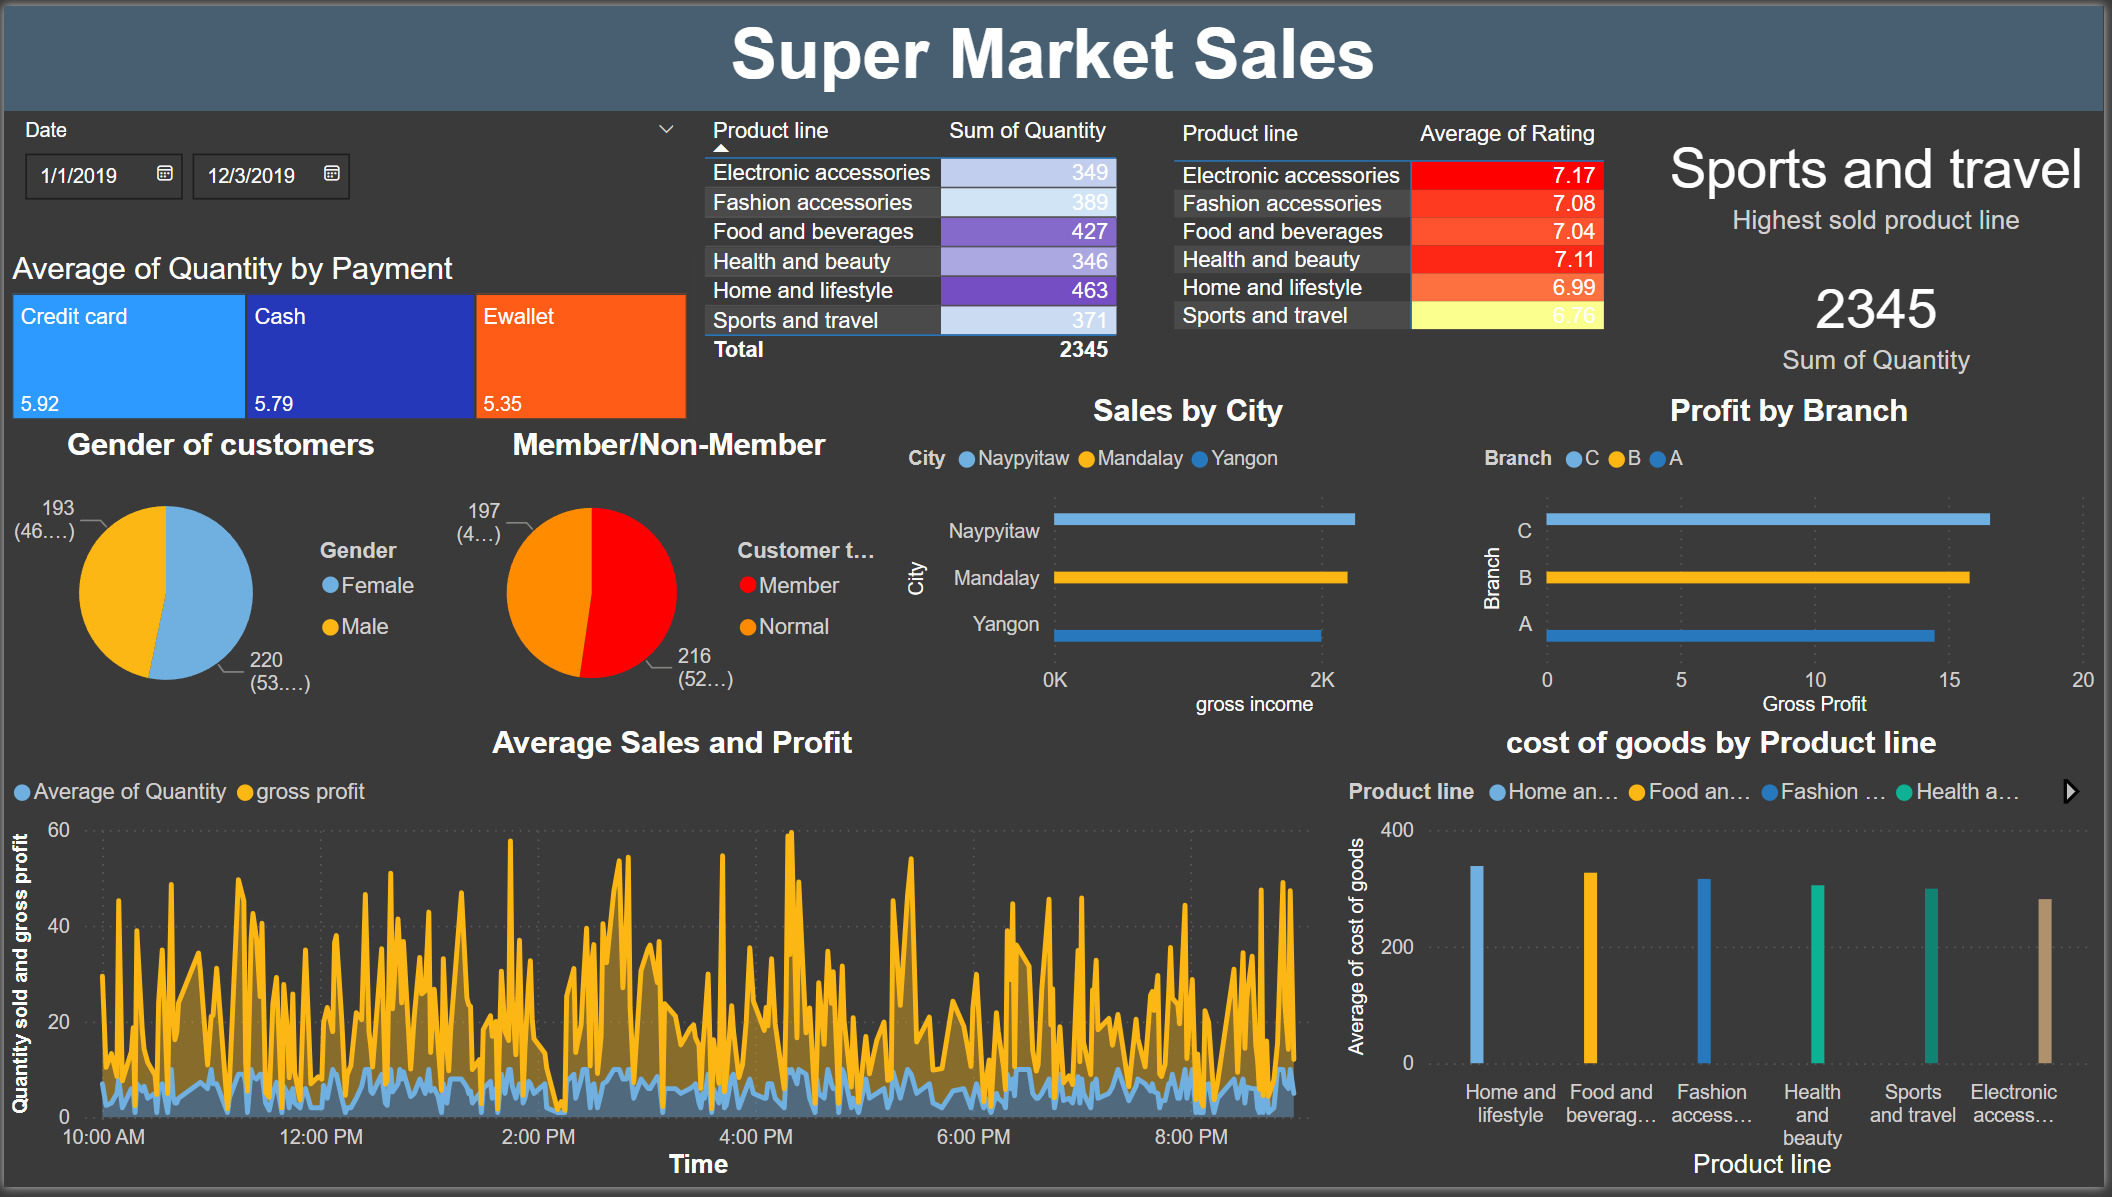

This screenshot's page, from the dashboard's own definition file:
{"tool":"powerbi","page":{"name":"Page 1","canvas":[1280,720],"ordinal":0},"visuals":[{"type":"slicer","fields":{"Values":["supermarket_sales+-+Sheet1.Date"]},"box":[0,64.3,421.4,81.3],"z":1000},{"type":"tableEx","fields":{"Values":["supermarket_sales+-+Sheet1.Product line","Sum(supermarket_sales+-+Sheet1.Quantity)"]},"box":[421.4,62.4,287.2,173.9],"z":2000},{"type":"treemap","fields":{"Group":["supermarket_sales+-+Sheet1.Payment"],"Values":["Avg(supermarket_sales+-+Sheet1.Quantity)"]},"box":[0,149.3,421.4,107.7],"z":3000},{"type":"stackedAreaChart","title":"Average Sales and Profit","fields":{"Category":["supermarket_sales+-+Sheet1.Time.1.1"],"Y":["Avg(supermarket_sales+-+Sheet1.Quantity)","Avg(supermarket_sales+-+Sheet1.gross income)"]},"box":[0,438.4,814.5,281.6],"z":4000},{"type":"pivotTable","fields":{"Rows":["supermarket_sales+-+Sheet1.Product line"],"Values":["Avg(supermarket_sales+-+Sheet1.Rating)"]},"box":[708.7,64.3,294.8,173.9],"z":5000},{"type":"pieChart","title":"Gender of customers","fields":{"Category":["supermarket_sales+-+Sheet1.Gender"],"Y":["CountNonNull(supermarket_sales+-+Sheet1.Gender)"]},"box":[0,257,264.6,181.4],"z":6000},{"type":"pieChart","title":"Member/Non-Member ","fields":{"Category":["supermarket_sales+-+Sheet1.Customer type"],"Y":["CountNonNull(supermarket_sales+-+Sheet1.Customer type)"]},"box":[264.6,257,281.6,181.4],"z":7000},{"type":"card","fields":{"Values":["supermarket_sales+-+Sheet1.Highest sold product"]},"box":[1003.5,62.4,275.9,88.8],"z":8000},{"type":"card","fields":{"Values":["Sum(supermarket_sales+-+Sheet1.Quantity)"]},"box":[1003.5,147.4,275.9,88.8],"z":9000},{"type":"clusteredBarChart","title":"Sales by City","fields":{"Category":["supermarket_sales+-+Sheet1.City"],"Series":["supermarket_sales+-+Sheet1.City"],"Y":["Sum(supermarket_sales+-+Sheet1.gross income)"]},"box":[546.1,236.2,351.5,202.2],"z":10000},{"type":"clusteredBarChart","title":"Profit by Branch","fields":{"Series":["supermarket_sales+-+Sheet1.Branch"],"Category":["supermarket_sales+-+Sheet1.Branch"],"Y":["Avg(supermarket_sales+-+Sheet1.gross income)"]},"box":[897.6,236.2,381.7,202.2],"z":11000},{"type":"clusteredColumnChart","title":"cost of goods by Product line","fields":{"Category":["supermarket_sales+-+Sheet1.Product line"],"Y":["Avg(supermarket_sales+-+Sheet1.cost of goods)"],"Series":["supermarket_sales+-+Sheet1.Product line"]},"box":[814.5,438.4,464.9,281.6],"z":12000},{"type":"textbox","box":[0,0,1279.5,64.4],"z":12500}]}

Visuals, with their boxes in screenshot pixels (x1, y1, x2, y2), scaled from the page's 1280x720 canvas onto the 2112x1197 screenshot:
slicer - supermarket_sales+-+Sheet1.Date: 0,107,695,242
tableEx - supermarket_sales+-+Sheet1.Product line x Sum(supermarket_sales+-+Sheet1.Quantity): 695,104,1169,393
treemap - supermarket_sales+-+Sheet1.Payment x Avg(supermarket_sales+-+Sheet1.Quantity): 0,248,695,427
"Average Sales and Profit" stackedAreaChart: 0,729,1344,1196
pivotTable - supermarket_sales+-+Sheet1.Product line x Avg(supermarket_sales+-+Sheet1.Rating): 1169,107,1656,396
"Gender of customers" pieChart: 0,427,437,729
"Member/Non-Member " pieChart: 437,427,901,729
card - supermarket_sales+-+Sheet1.Highest sold product: 1656,104,2111,251
card - Sum(supermarket_sales+-+Sheet1.Quantity): 1656,245,2111,393
"Sales by City" clusteredBarChart: 901,393,1481,729
"Profit by Branch" clusteredBarChart: 1481,393,2111,729
"cost of goods by Product line" clusteredColumnChart: 1344,729,2111,1196
textbox: 0,0,2111,107
